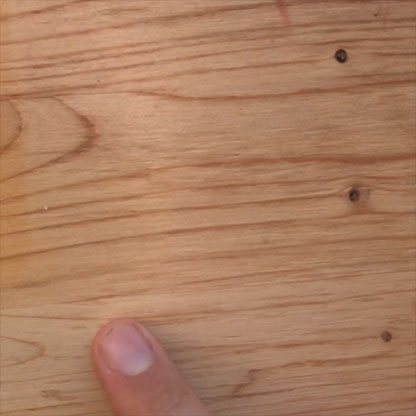fingertip: (80, 309, 177, 392)
